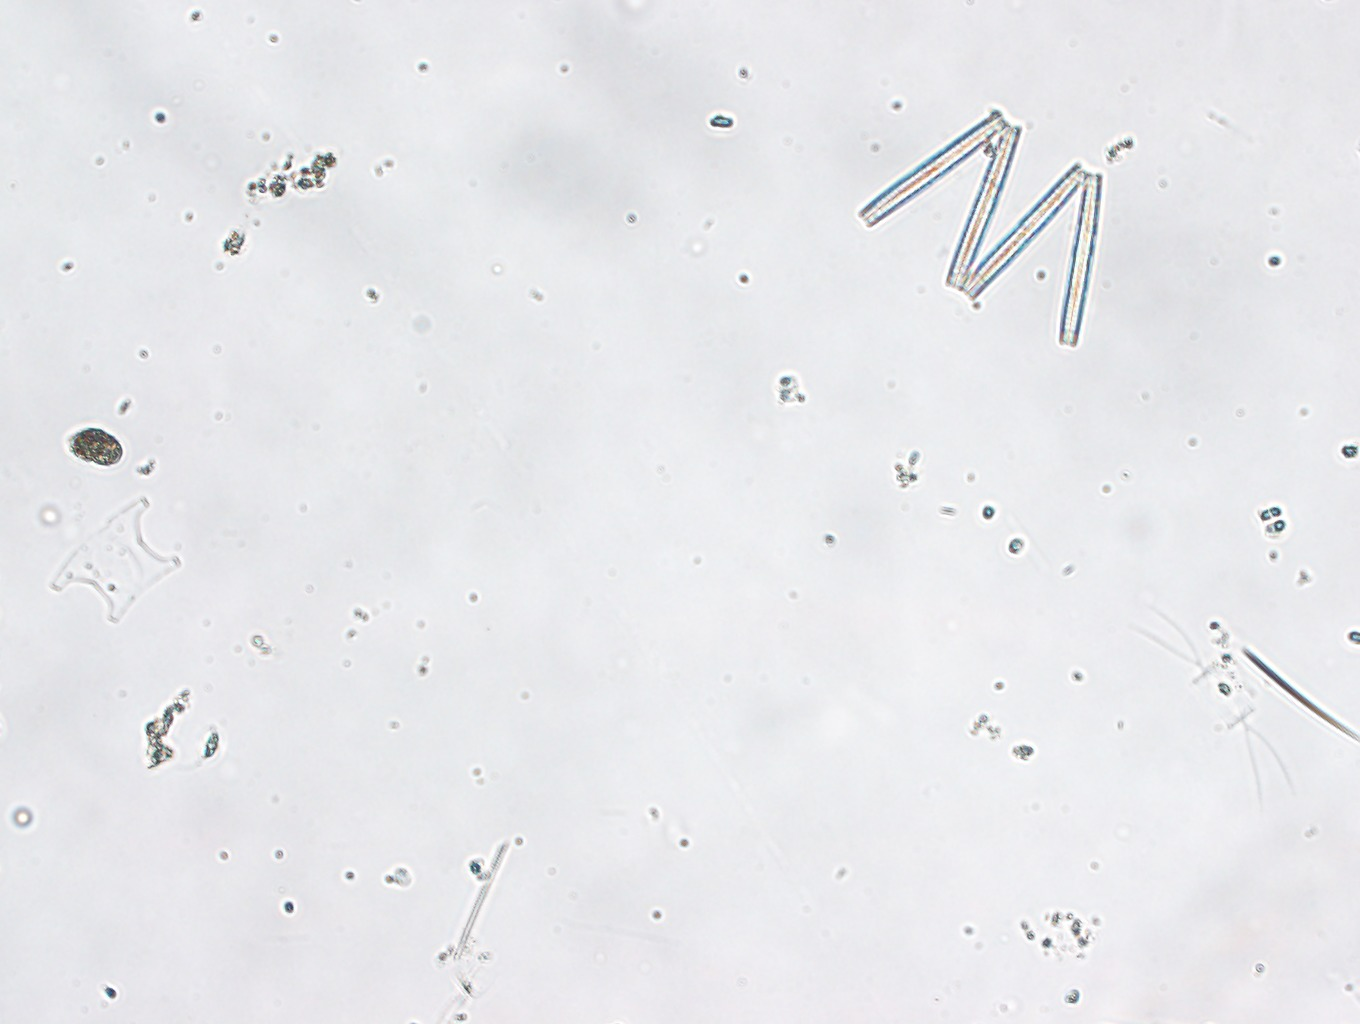chaetoceros: (1132, 606, 1300, 817)
eucampia: (52, 497, 180, 623)
thalassionema nitzschioides: (859, 106, 1102, 347)
